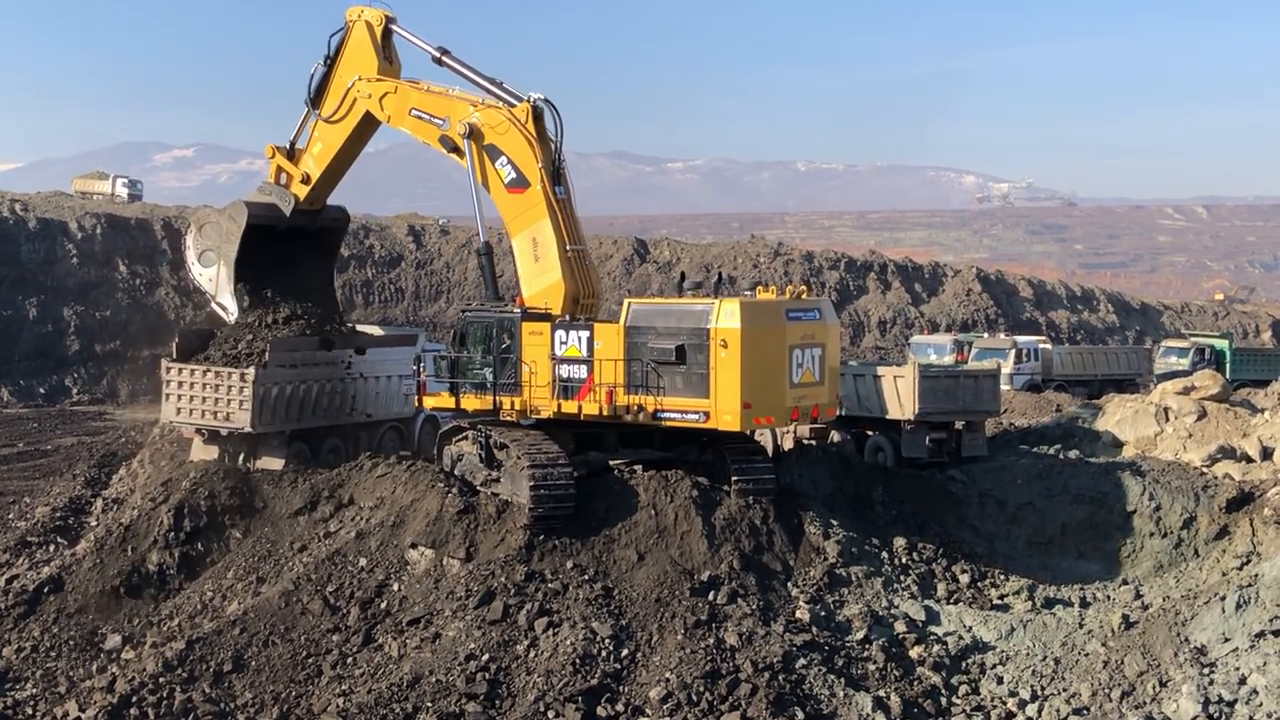full: (179, 189, 354, 329)
